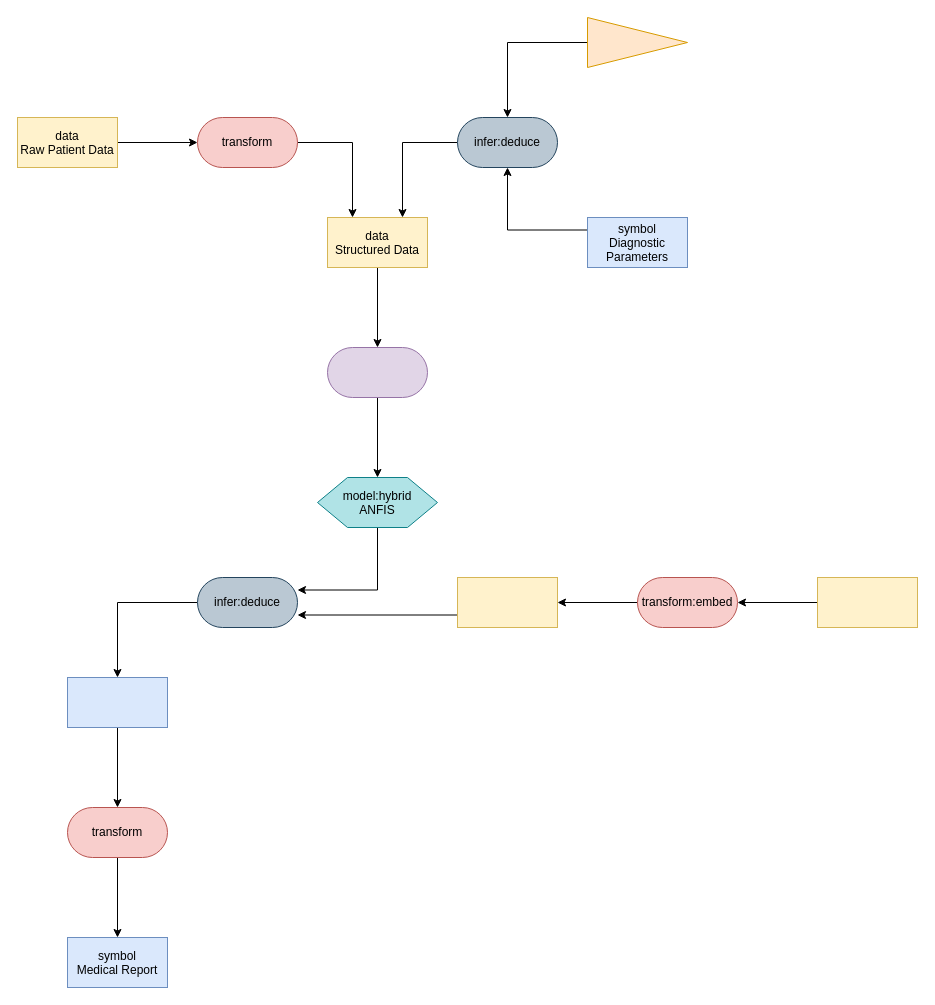
The diagram is 935 pixels wide and 1005 high, and some of its shapes have lost their labels. Each missing label, with the centre of its shape:
"actor Experts" goes at (637,42).
"data Fuzzified Value" goes at (507,602).
"data Patient Data" goes at (867,602).
"generate:train" goes at (377,372).
"symbol Fuzzy Diagnosis" goes at (117,702).
